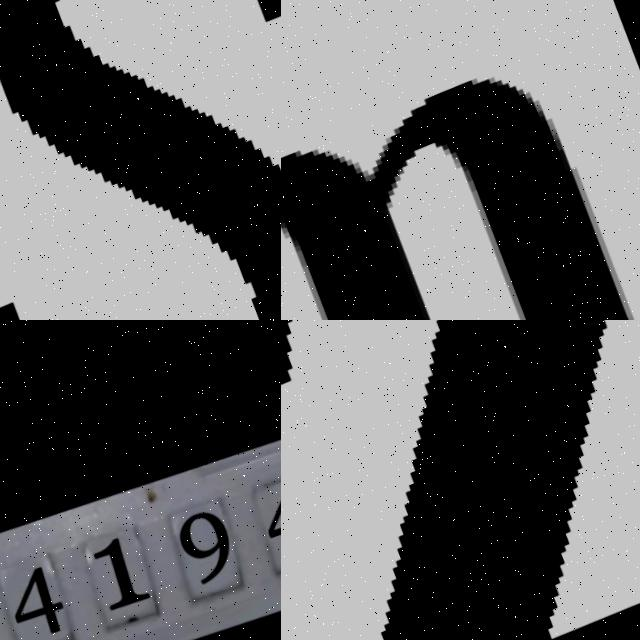1: (67, 509, 173, 629)
4: (0, 541, 93, 640), (238, 454, 281, 571)
9: (156, 484, 261, 599)
M: (281, 3, 640, 320)
S: (0, 0, 281, 320)
Z: (281, 320, 640, 640)
